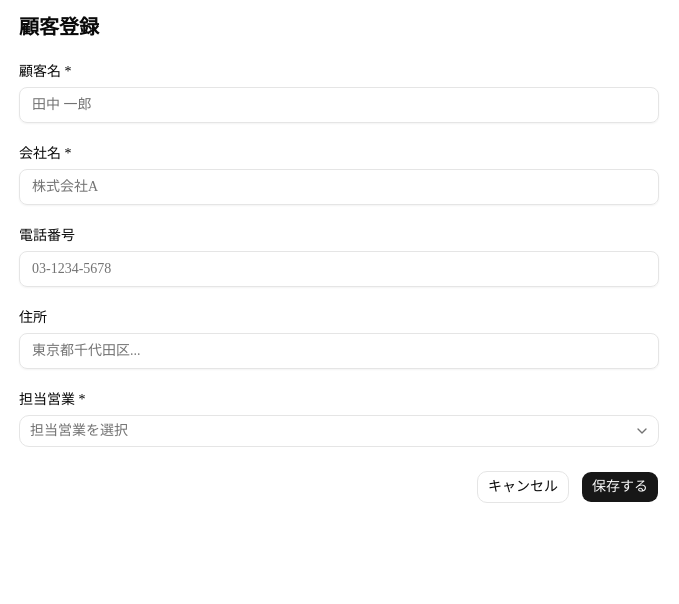
SCR-T-005-6: 必須項目未入力で保存 › 顧客名を空にして保存するとエラーメッセージが表示される
Click the button "保存する".
click(620, 487)  # box [581,471,659,503]
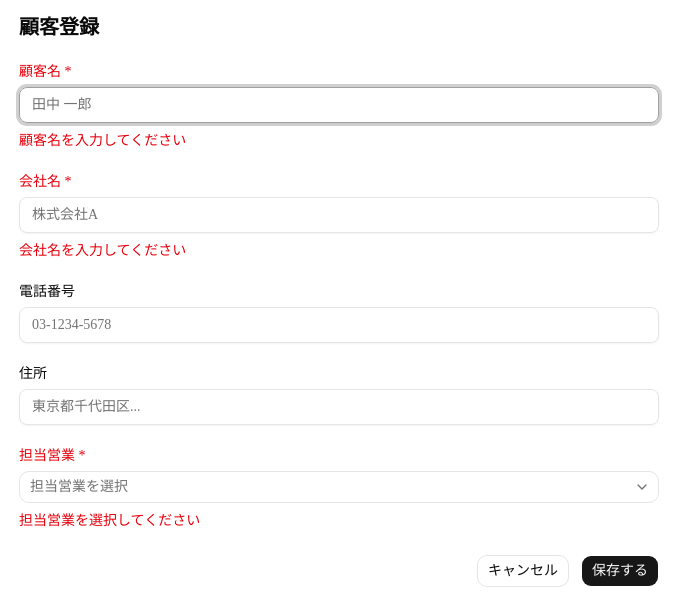
Check: the text "顧客名を入力してください" is shown, box [19,133,186,148]
